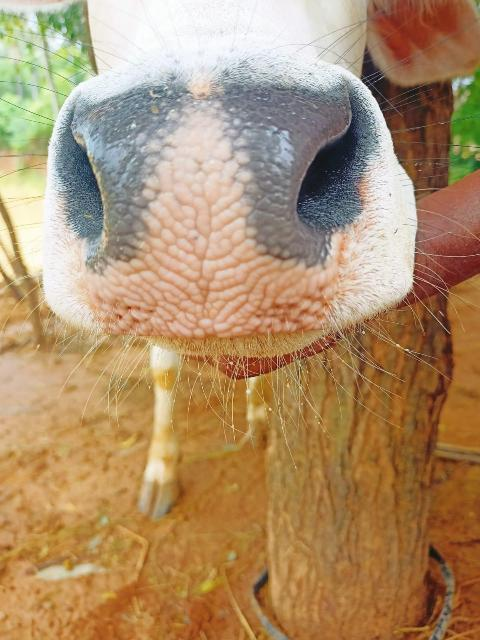Muzzle: (85, 97, 333, 327)
